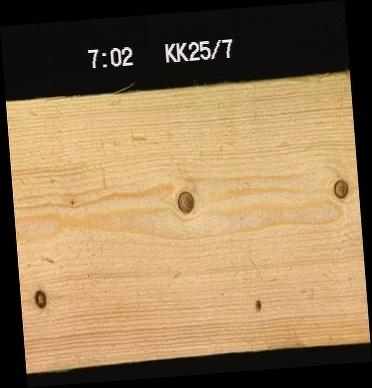dry_knot: (174, 188, 195, 214), (330, 176, 349, 199), (31, 287, 48, 309)
small_knot: (250, 296, 263, 311)
